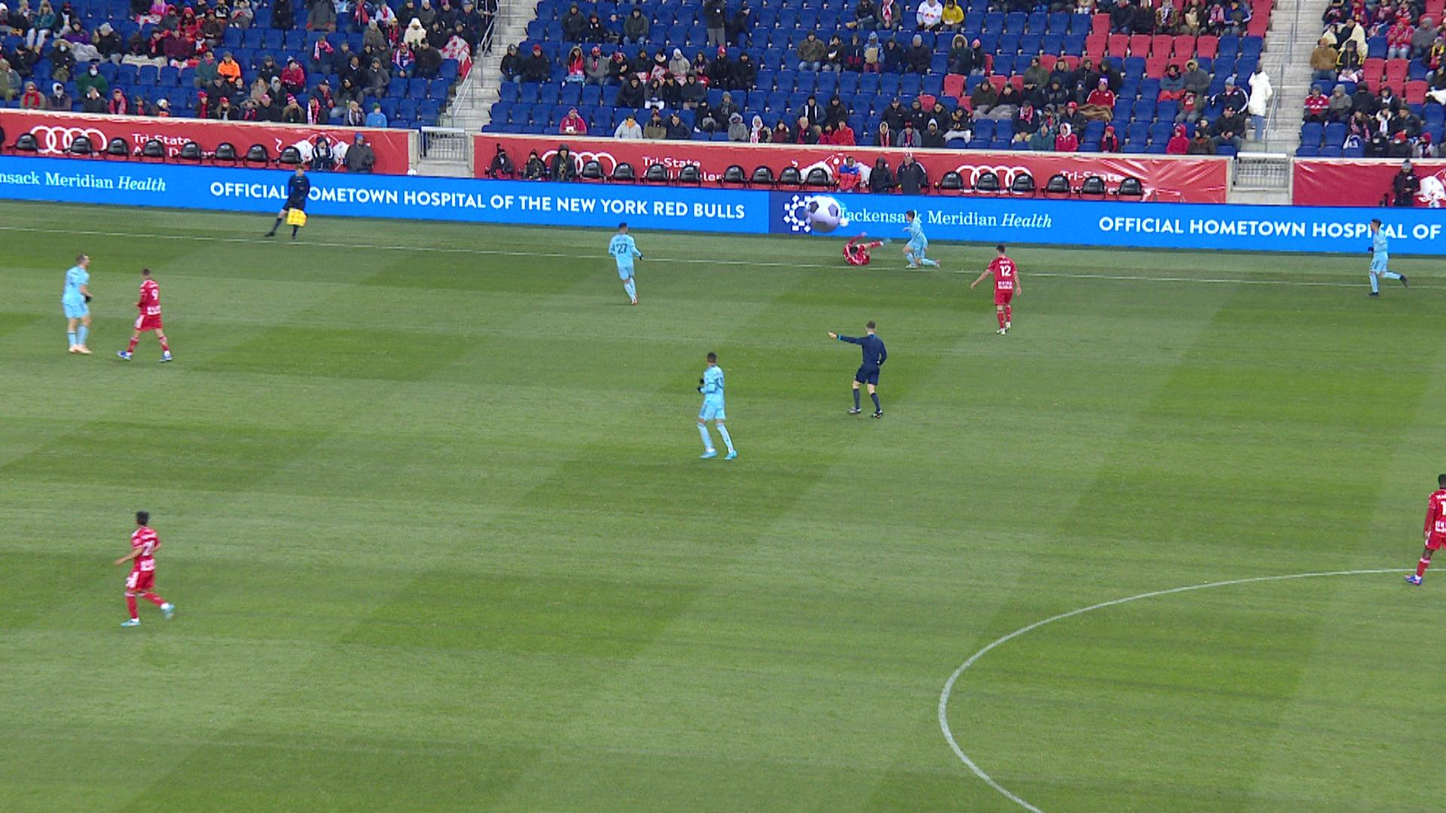Player: (113, 512, 175, 626), (117, 269, 172, 361), (1405, 474, 1446, 585), (971, 245, 1021, 335), (696, 353, 737, 460), (1366, 219, 1408, 298), (62, 254, 92, 354), (609, 222, 643, 305), (902, 210, 940, 268), (844, 232, 891, 265)
referee: (828, 321, 887, 417), (265, 164, 309, 240)
